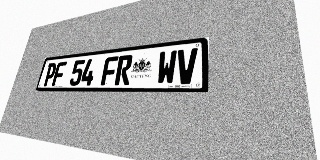4: (80, 58, 97, 86)
5: (69, 60, 85, 86)
F: (100, 56, 119, 85), (51, 61, 67, 86)
P: (42, 62, 57, 86)
R: (114, 55, 133, 85)
V: (176, 48, 198, 84)
W: (156, 50, 177, 85)
